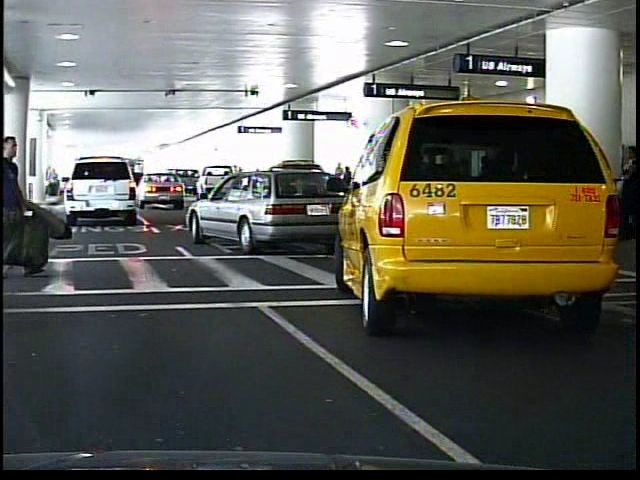person: (333, 162, 344, 198), (343, 164, 351, 182)
